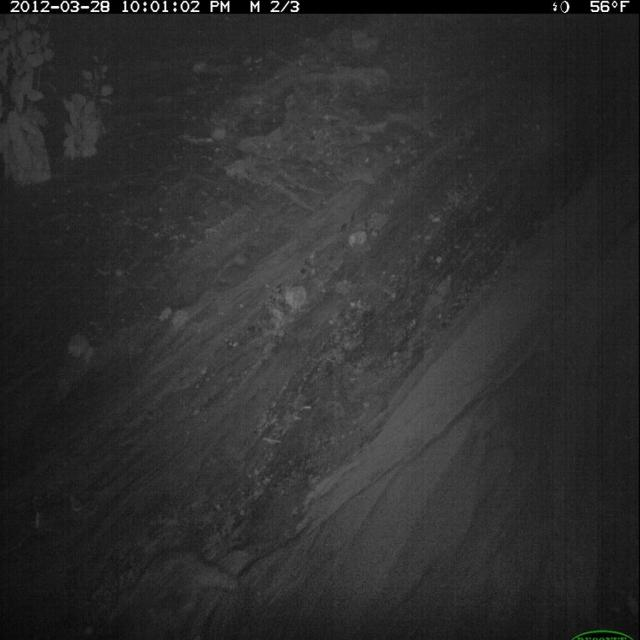raccoon: (103, 538, 246, 640)
